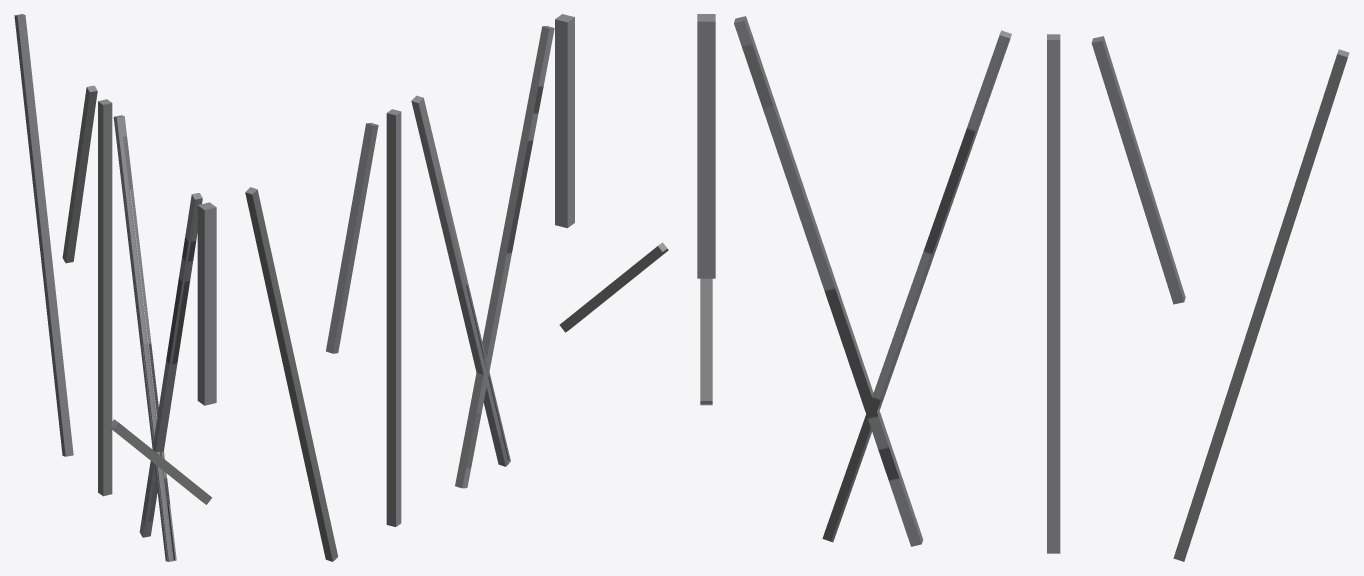
3 renders of one model, left to right at view 1: azimuth 30°, elevation 25°; view 2: azimuth 150°, elevation 25°; view 3: azimuth 270°, elevation 25°, orthographic. The views are drawn at different scales.
Bounding box in the file's own units: 0.8341 × 2.01 × 2.3.
